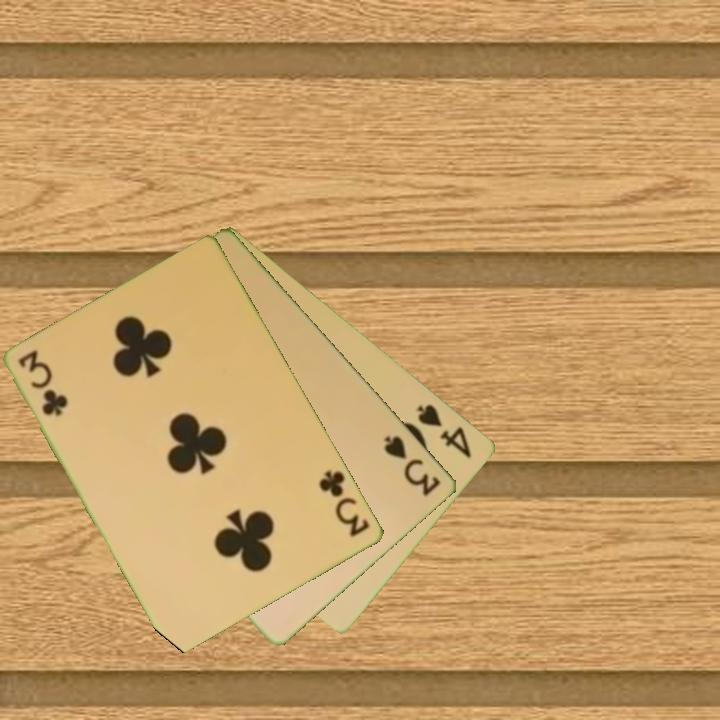3c: (315, 467, 373, 540), (15, 347, 70, 420)
3s: (380, 432, 445, 499)
4s: (413, 400, 475, 462)
